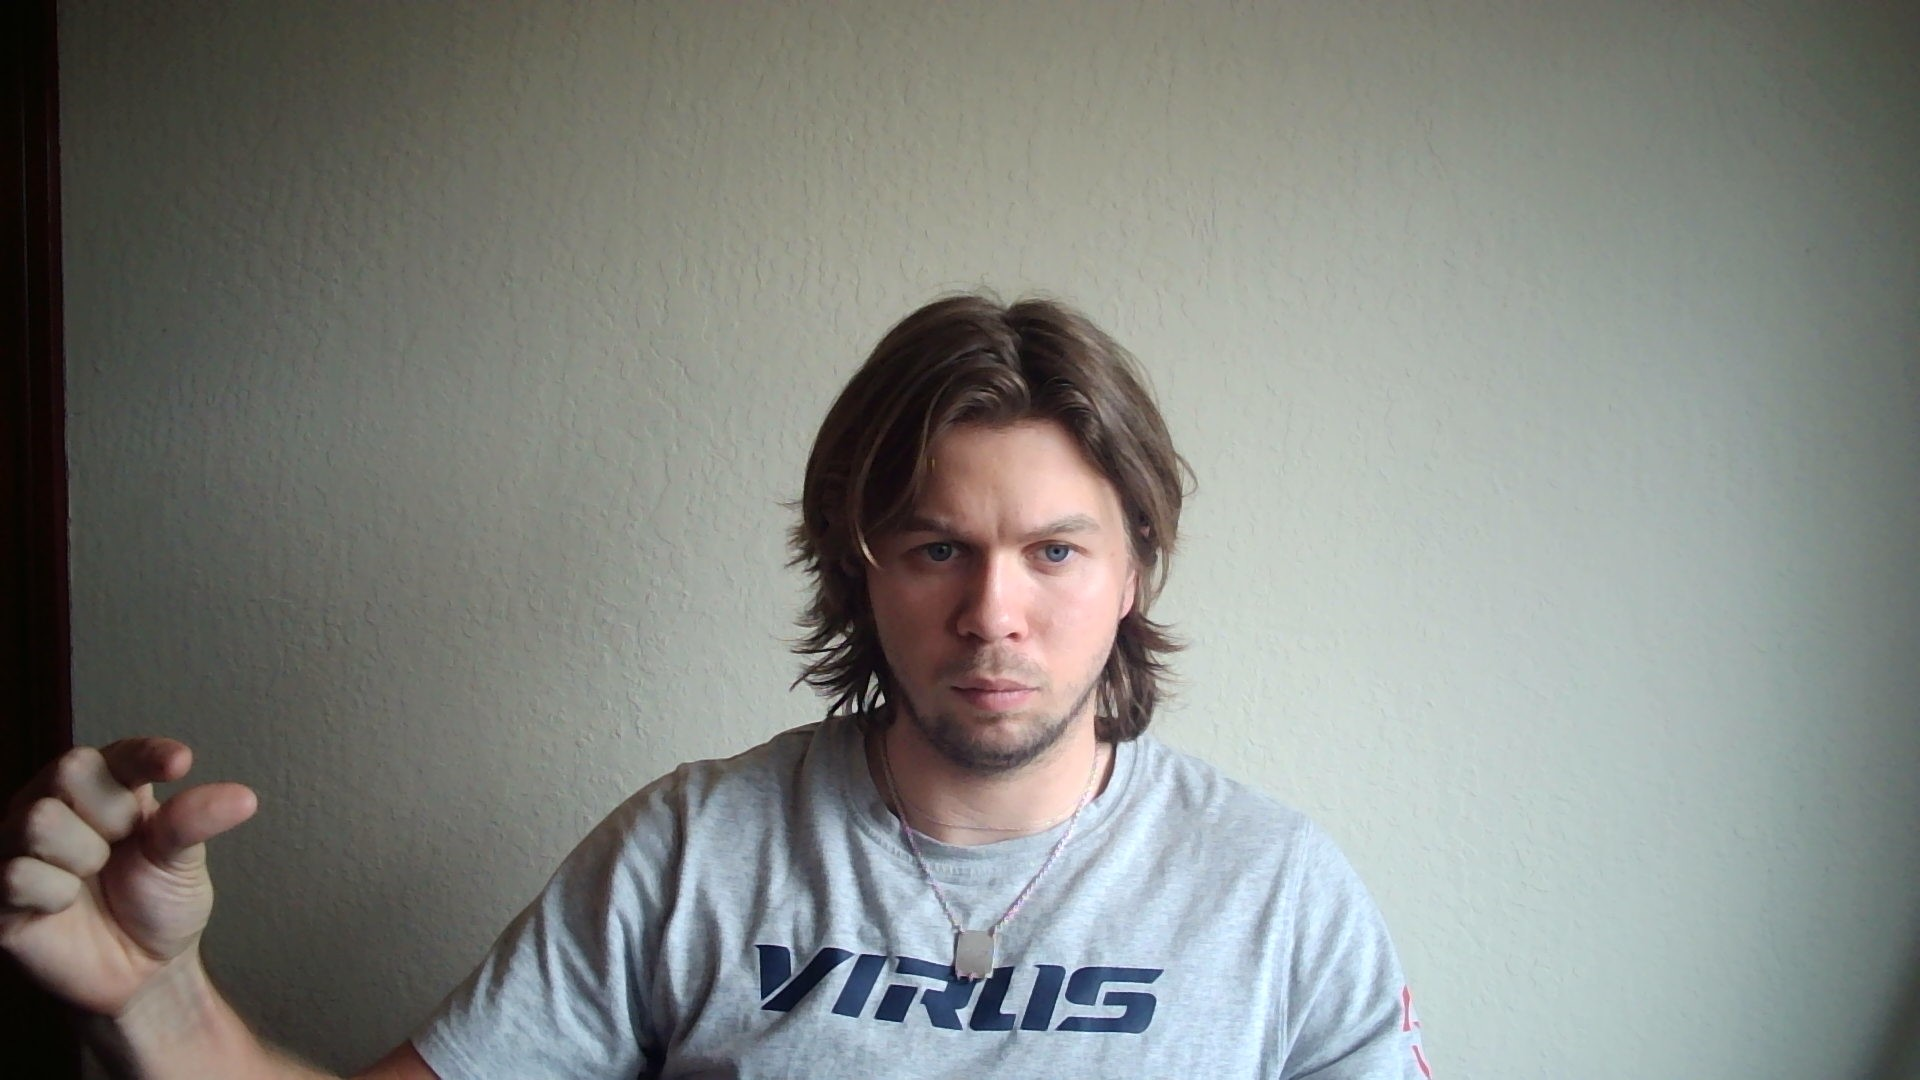small: (7, 736, 257, 1013)
